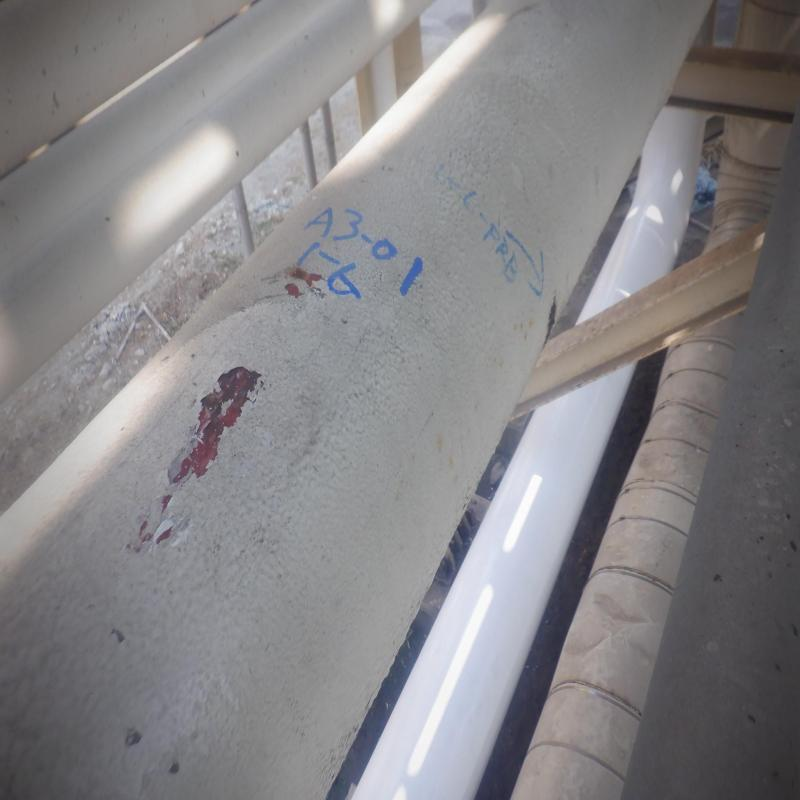corrosion: (188, 372, 258, 443)
